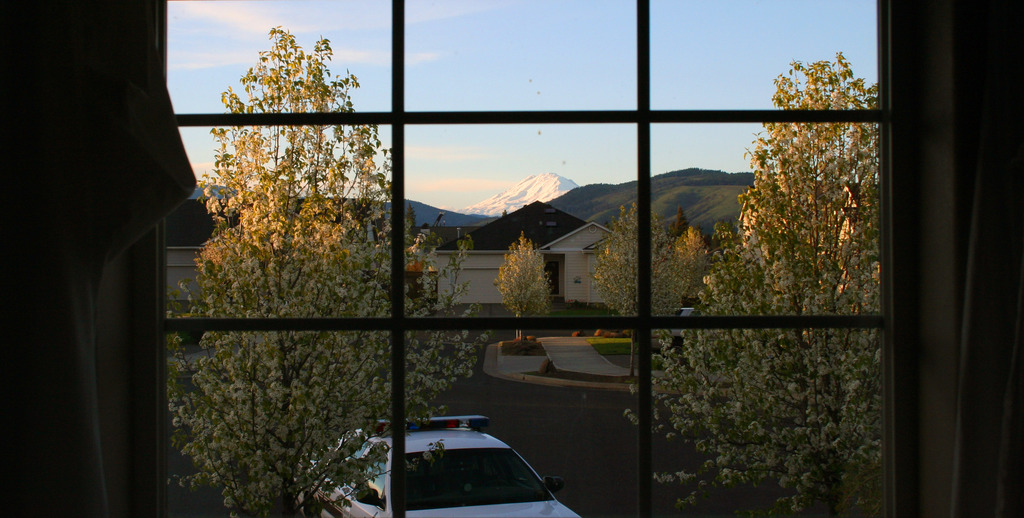Car: (366, 405, 579, 518)
